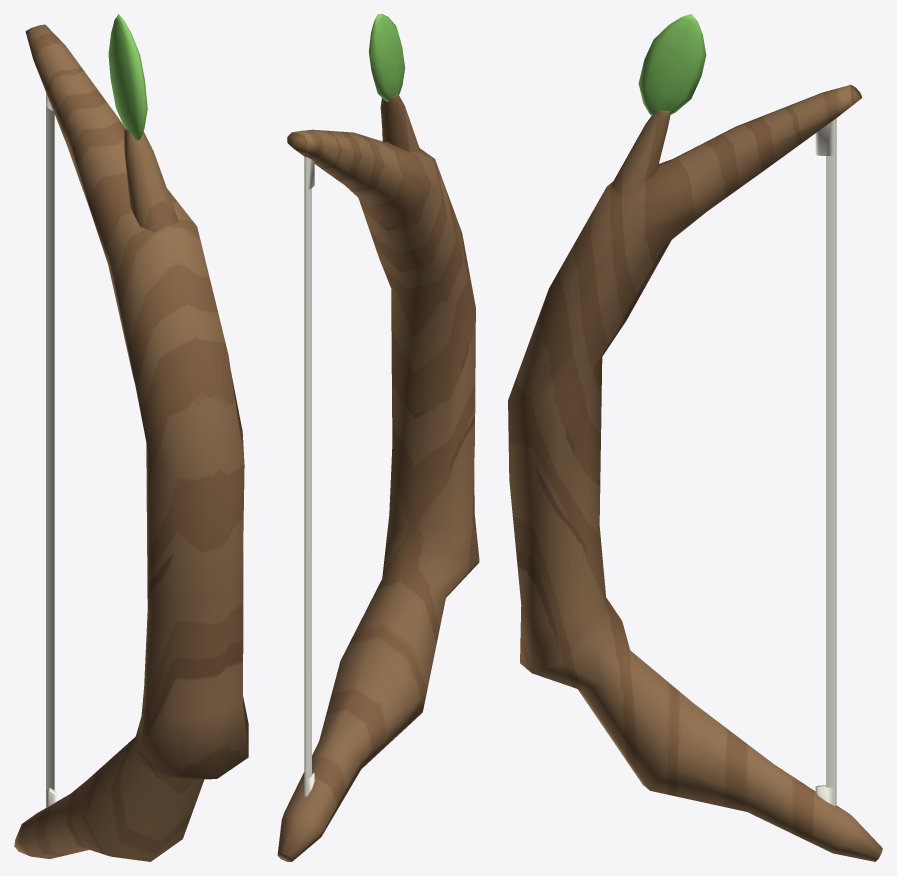
Rendered from BowF.fbx.
3 views of the same model, side by side, from view 1: azimuth 30°, elevation 25°; view 2: azimuth 150°, elevation 25°; view 3: azimuth 270°, elevation 25° (orthographic). The views are drawn at different scales.
Visible parts, largest first — view 1: Bow F; view 2: Bow F; view 3: Bow F.
Boxes of the visible parts, x1,y1,x2,y2 form: Bow F: [14, 14, 248, 861]; Bow F: [277, 14, 479, 861]; Bow F: [508, 14, 882, 861].
Bounding box in the file's own units: 0.1691 × 1.37 × 0.5531.
